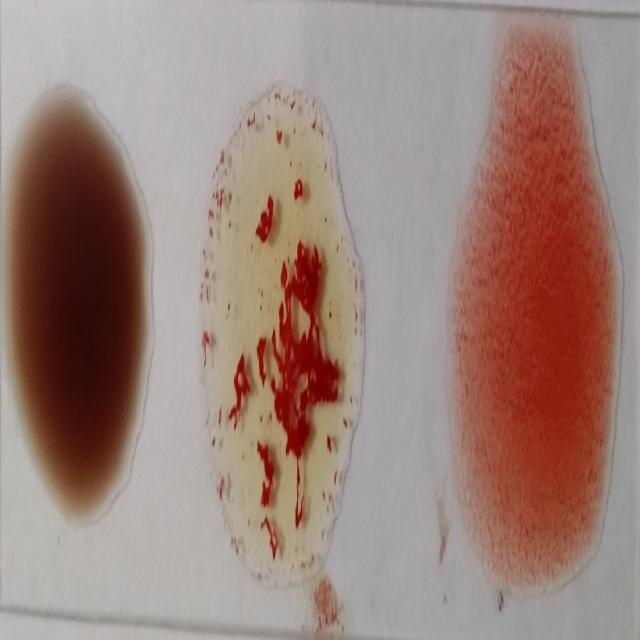B: (203, 72, 359, 584)
D: (443, 33, 624, 581)
